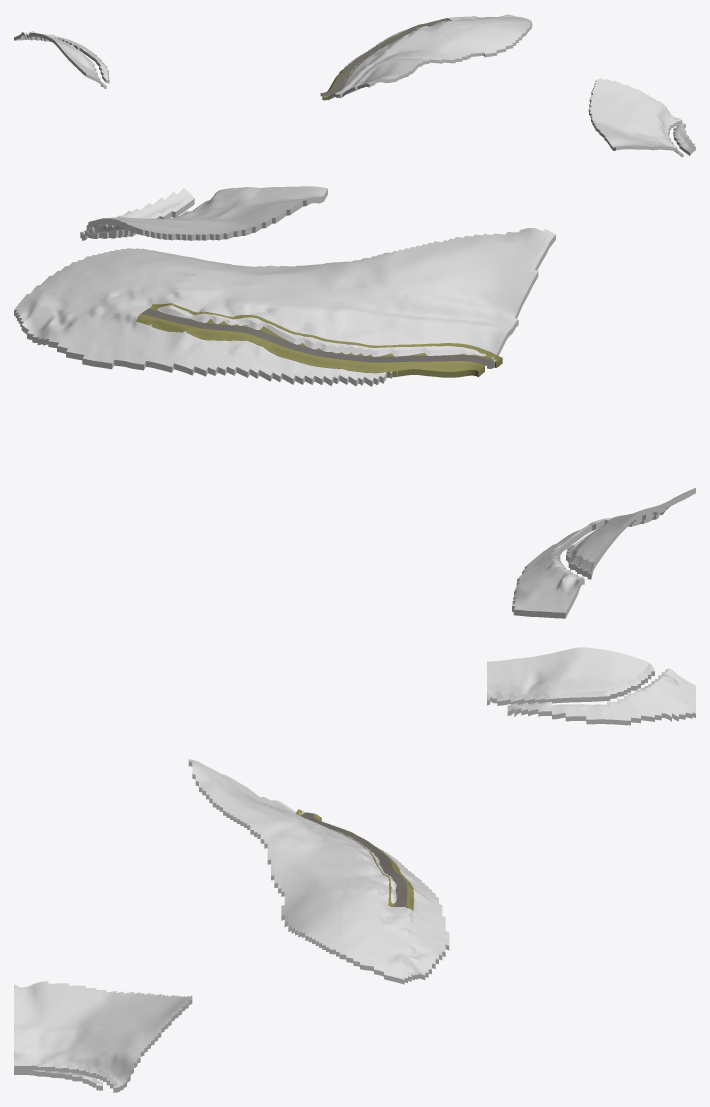
File: conz_128.glb
3 renders of one model, top to bottom at view 1: azimuth 30°, elevation 25°; view 2: azimuth 150°, elevation 25°; view 3: azimuth 270°, elevation 25°, orthographic. The views are drawn at different scales.
Visible parts, largest first — view 1: terrain128, road128; view 2: terrain128, verge128L, road128, verge128R; view 3: terrain128, road128.
Boxes of the visible parts, x1,y1,x2,y2 form: terrain128: (14, 14, 695, 157); road128: (321, 18, 451, 96); terrain128: (14, 186, 695, 618); verge128L: (136, 314, 484, 377); road128: (141, 308, 495, 365); verge128R: (149, 303, 502, 367); terrain128: (14, 647, 695, 1092); road128: (302, 812, 407, 906).
Size of the model in its own units: 456 by 86.57 by 398.
